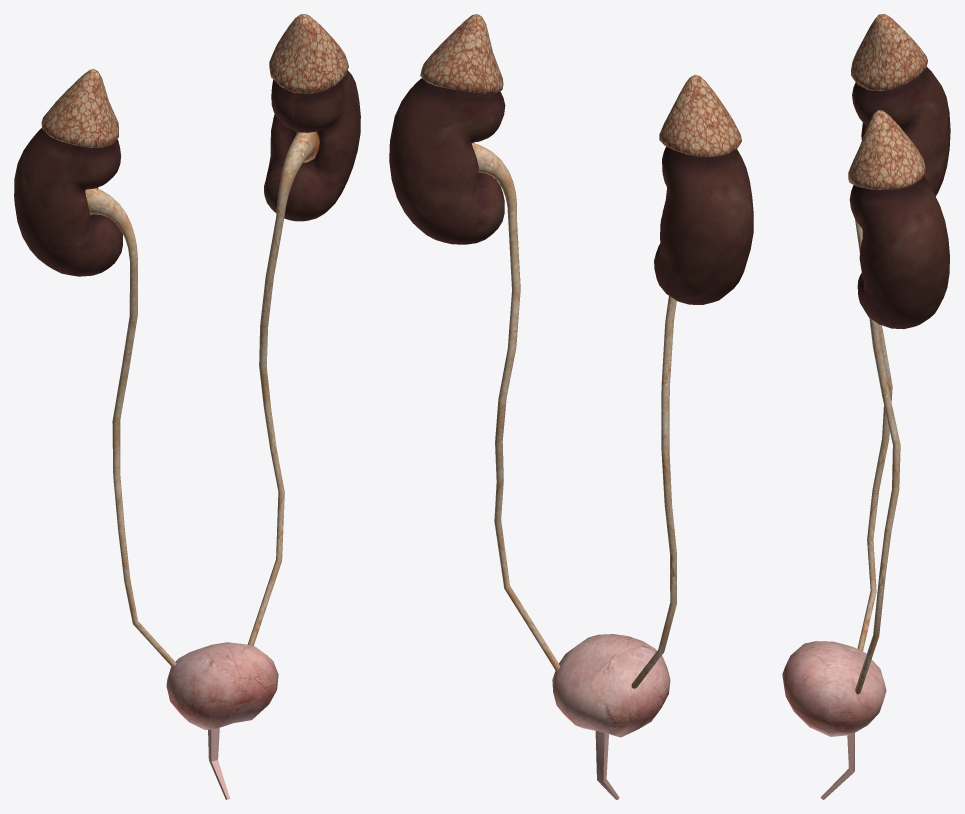
File: A Female_Urinary_System.fbx
3 renders of one model, left to right at view 1: azimuth 30°, elevation 25°; view 2: azimuth 150°, elevation 25°; view 3: azimuth 270°, elevation 25°, orthographic. The views are drawn at different scales.
Visible parts, largest first — view 1: Right_Kidney, Left_Kidney, Bladder, Left_Ureter, Right_Ureter, Left_Suprarenal_Adrenal_Glands, Right_Suprarenal_Adrenal_Glands, Urethra; view 2: Left_Kidney, Right_Kidney, Bladder, Left_Ureter, Right_Suprarenal_Adrenal_Glands, Left_Suprarenal_Adrenal_Glands, Right_Ureter, Urethra; view 3: Left_Kidney, Bladder, Right_Kidney, Left_Suprarenal_Adrenal_Glands, Right_Suprarenal_Adrenal_Glands, Left_Ureter, Right_Ureter, Urethra.
Boxes of the visible parts, <box> form: Right_Kidney: <box>14,128,122,276</box>; Left_Kidney: <box>264,70,360,221</box>; Bladder: <box>166,642,278,729</box>; Left_Ureter: <box>247,131,319,645</box>; Right_Ureter: <box>85,188,176,667</box>; Left_Suprarenal_Adrenal_Glands: <box>269,14,348,93</box>; Right_Suprarenal_Adrenal_Glands: <box>41,69,118,147</box>; Urethra: <box>208,728,229,799</box>; Left_Kidney: <box>389,78,505,244</box>; Right_Kidney: <box>654,146,753,304</box>; Bladder: <box>552,634,670,737</box>; Left_Ureter: <box>471,142,560,671</box>; Right_Suprarenal_Adrenal_Glands: <box>659,74,741,156</box>; Left_Suprarenal_Adrenal_Glands: <box>420,14,503,93</box>; Right_Ureter: <box>631,296,676,688</box>; Urethra: <box>595,731,619,799</box>; Left_Kidney: <box>849,175,949,329</box>; Bladder: <box>782,641,886,736</box>; Right_Kidney: <box>852,66,950,195</box>; Left_Suprarenal_Adrenal_Glands: <box>848,110,925,189</box>; Right_Suprarenal_Adrenal_Glands: <box>851,14,927,91</box>; Left_Ureter: <box>855,318,900,694</box>; Right_Ureter: <box>855,219,892,651</box>; Urethra: <box>820,733,854,799</box>.
Bounding box in the file's own units: 15.86 × 33.39 × 6.88.
Materials: 2 (2 with a texture image).
